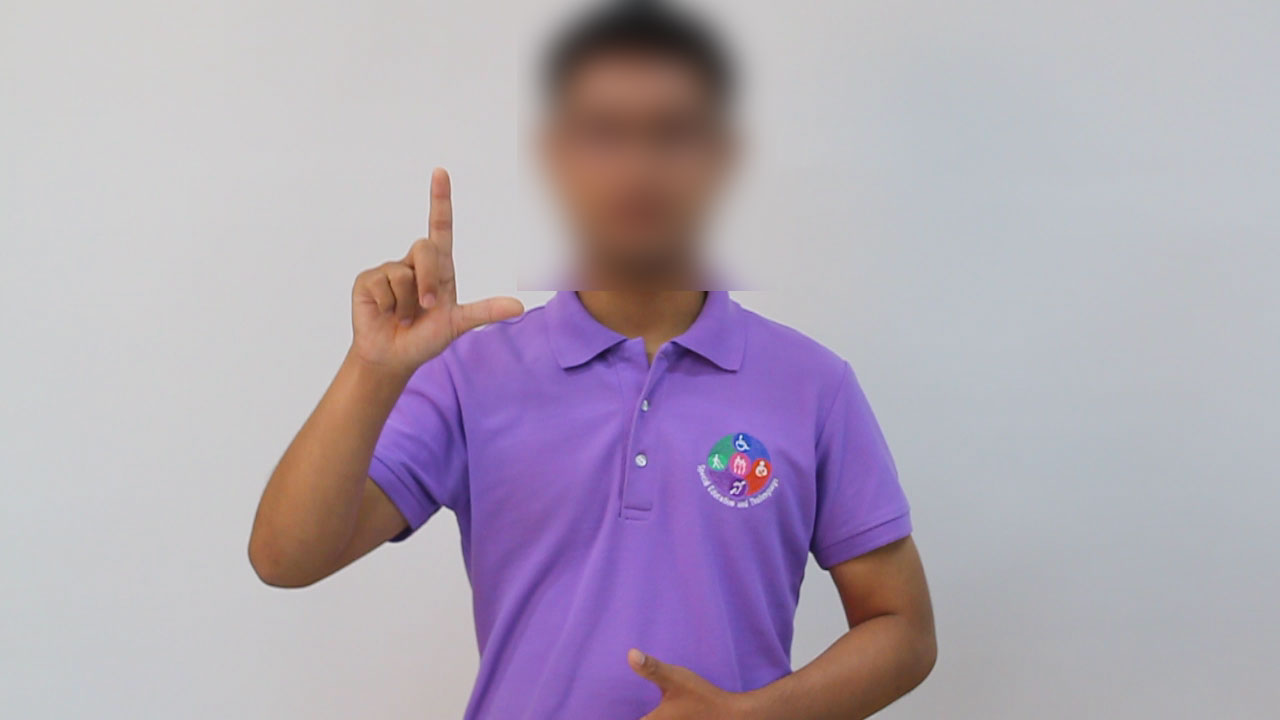lor: (325, 155, 543, 373)
